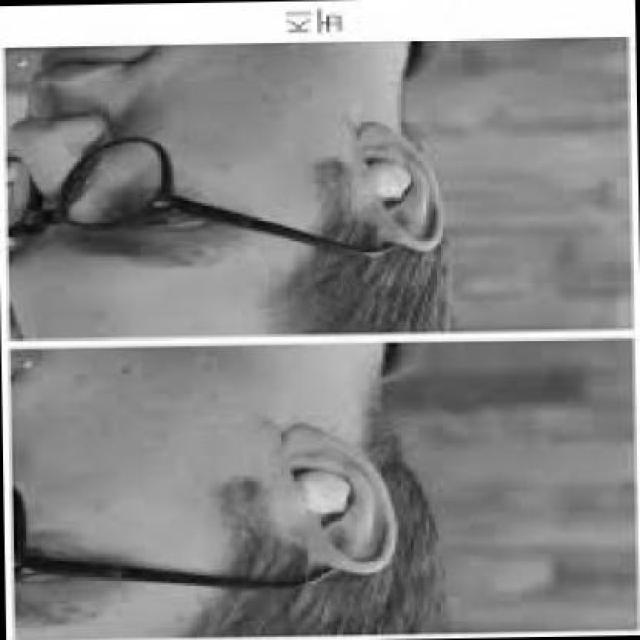earphone: (272, 450, 379, 547), (349, 147, 448, 232)
